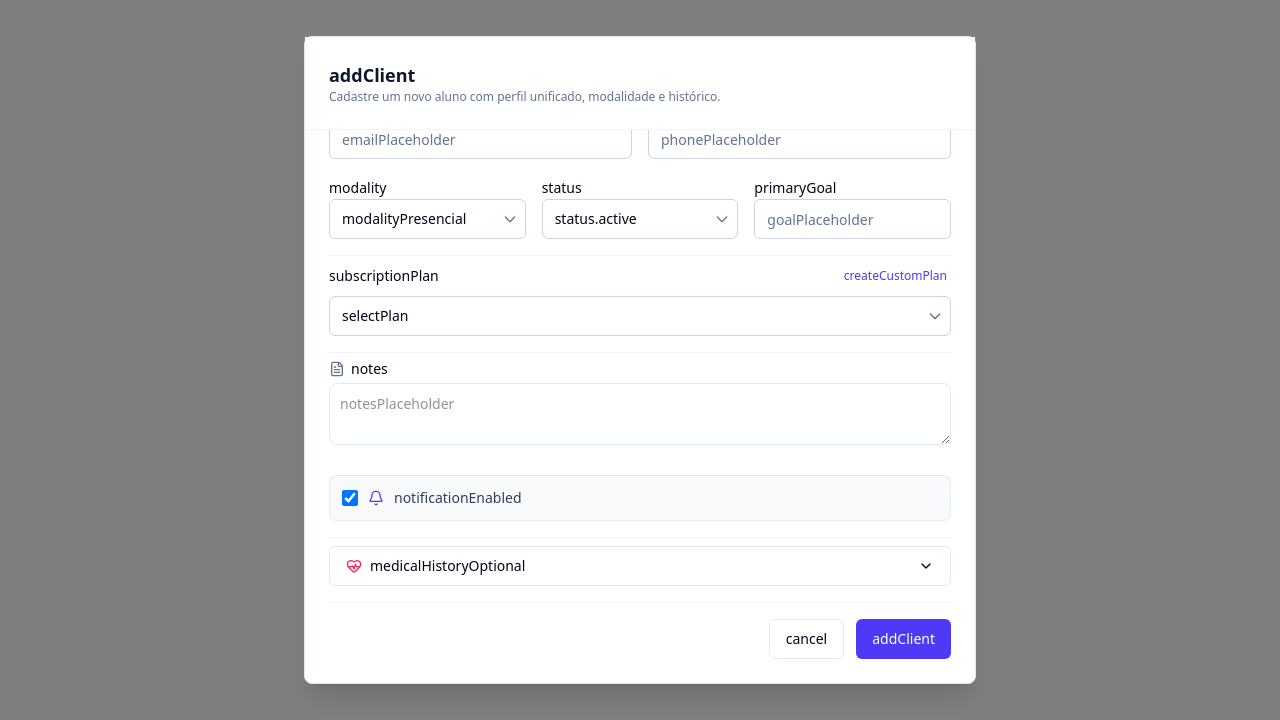
Test: AddClientModal › shows medical history fields when toggle is clicked
(page scrolled)
Click the button "medicalHistoryOptional": {"x": 448, "y": 566} [329, 546, 951, 586]
(page scrolled)
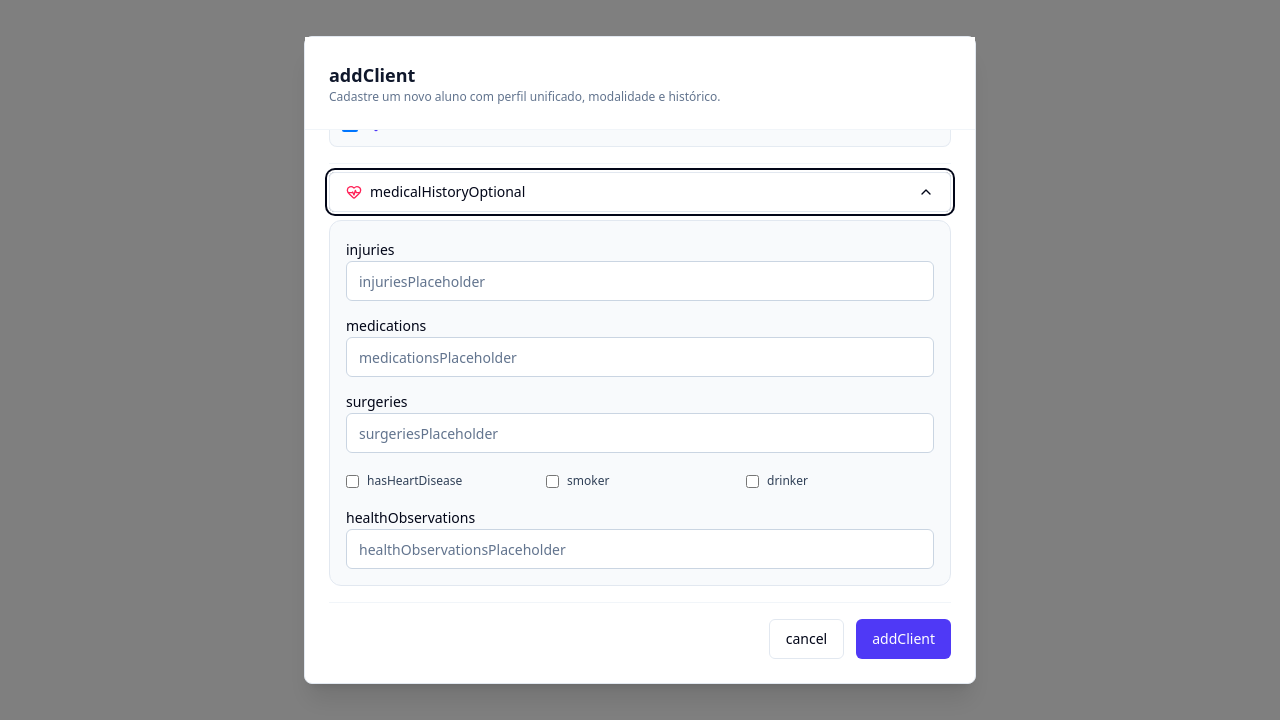
Check: the field with placeholder "injuriesPlaceholder" is shown, box [346, 261, 934, 301]
Check: the field with placeholder "medicationsPlaceholder" is shown, box [346, 337, 934, 377]
Check: the field with placeholder "surgeriesPlaceholder" is shown, box [346, 413, 934, 453]
